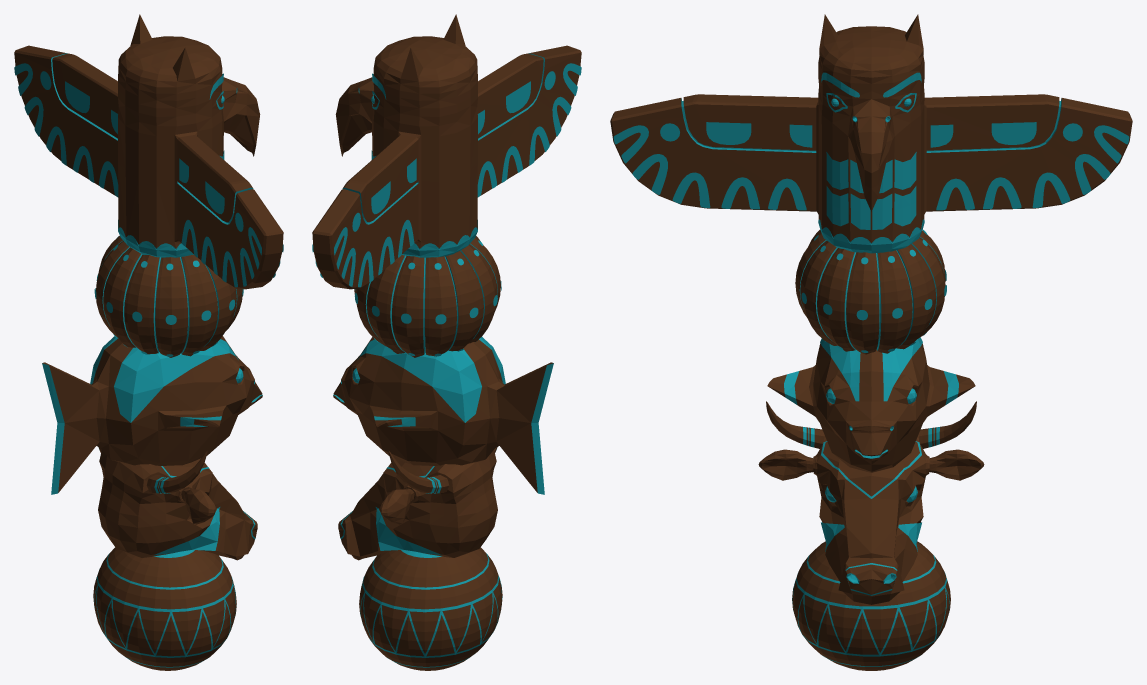
The model's file is Materials.obj.
3 views of the same model, side by side, from view 1: azimuth 30°, elevation 25°; view 2: azimuth 150°, elevation 25°; view 3: azimuth 270°, elevation 25° (orthographic). The views are drawn at different scales.
Visible parts, largest first — view 1: Cube.002_Cube.006, Cube.000_Cube.004; view 2: Cube.002_Cube.006, Cube.000_Cube.004; view 3: Cube.002_Cube.006, Cube.000_Cube.004.
Part boxes in pixels (bbox=[...]): Cube.002_Cube.006: bbox=[14, 14, 283, 670]; Cube.000_Cube.004: bbox=[14, 53, 283, 667]; Cube.002_Cube.006: bbox=[312, 14, 581, 670]; Cube.000_Cube.004: bbox=[312, 53, 581, 667]; Cube.002_Cube.006: bbox=[610, 14, 1132, 670]; Cube.000_Cube.004: bbox=[613, 72, 1129, 666].
Bounding box in the file's own units: 3.36 × 9.31 × 6.79.
